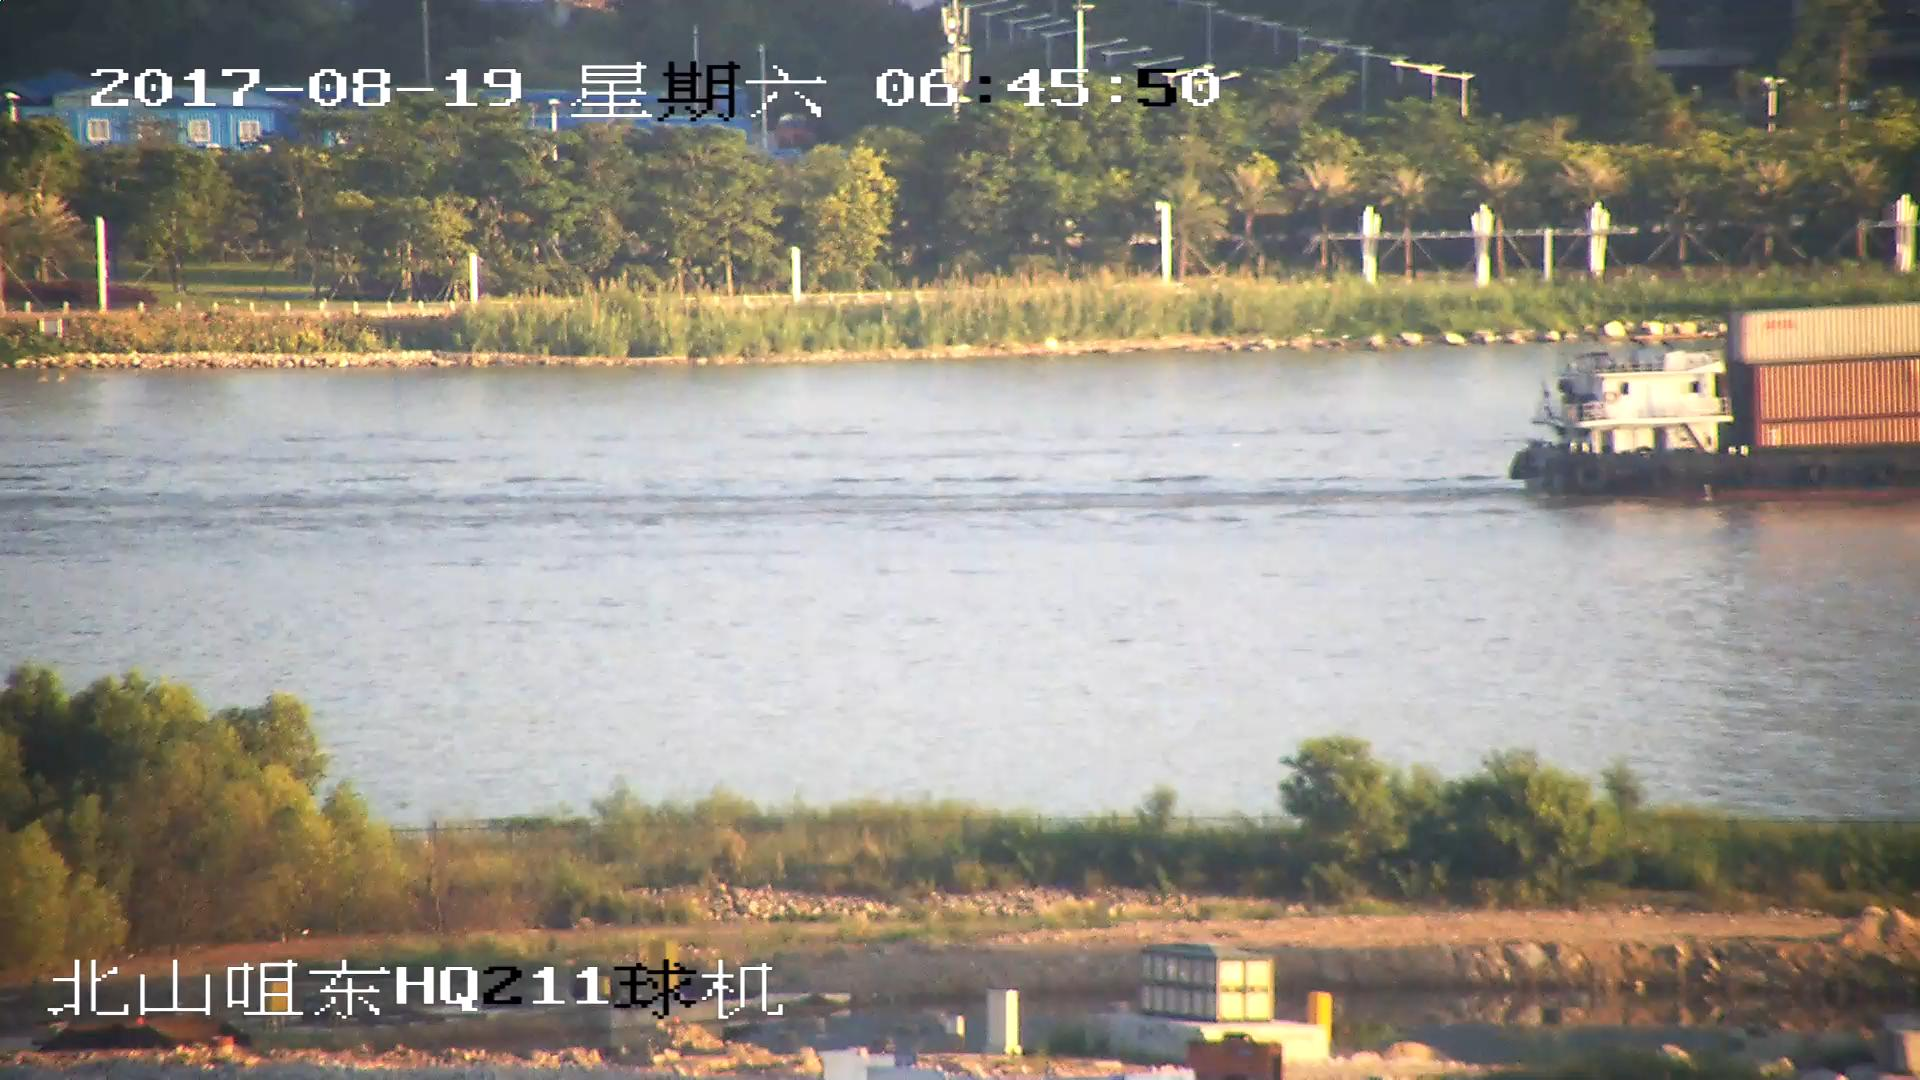container ship: (1503, 301, 1920, 499)
